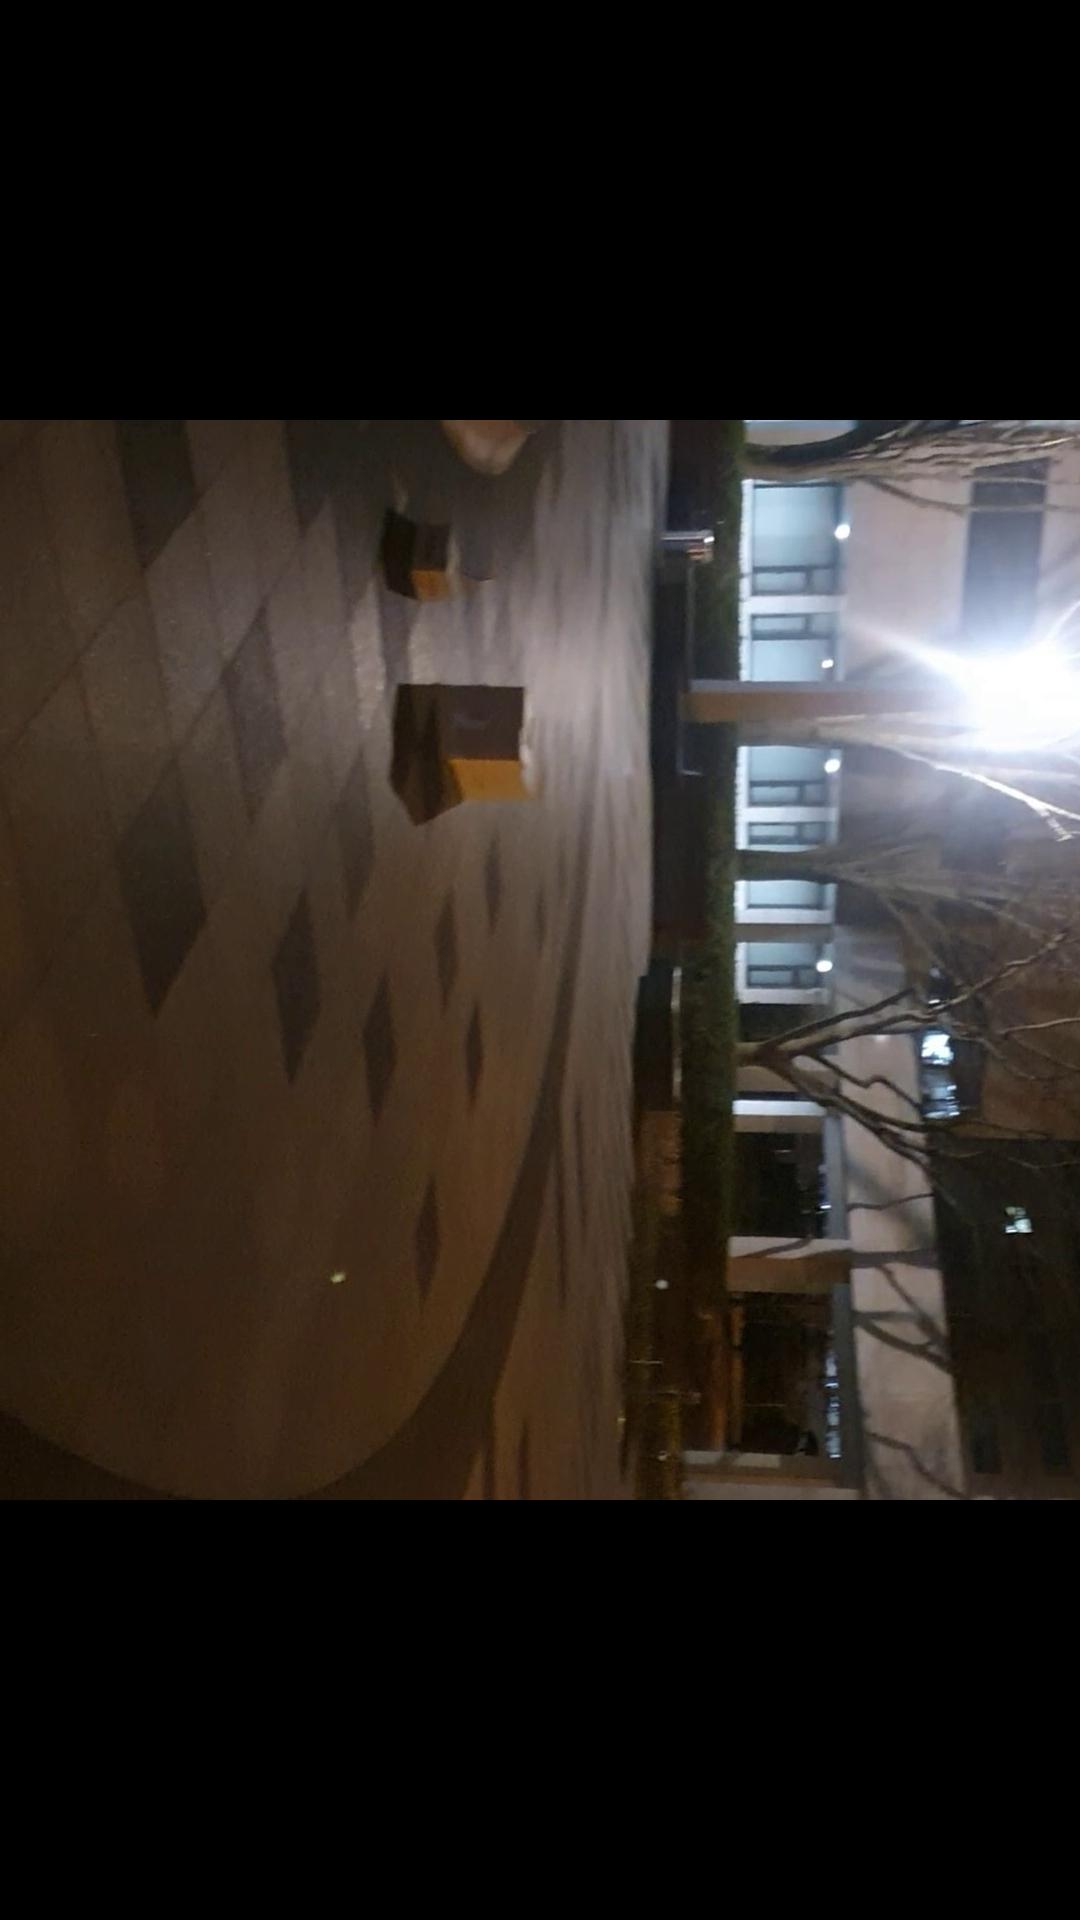Box: (405, 678, 547, 804), (390, 502, 477, 605)
